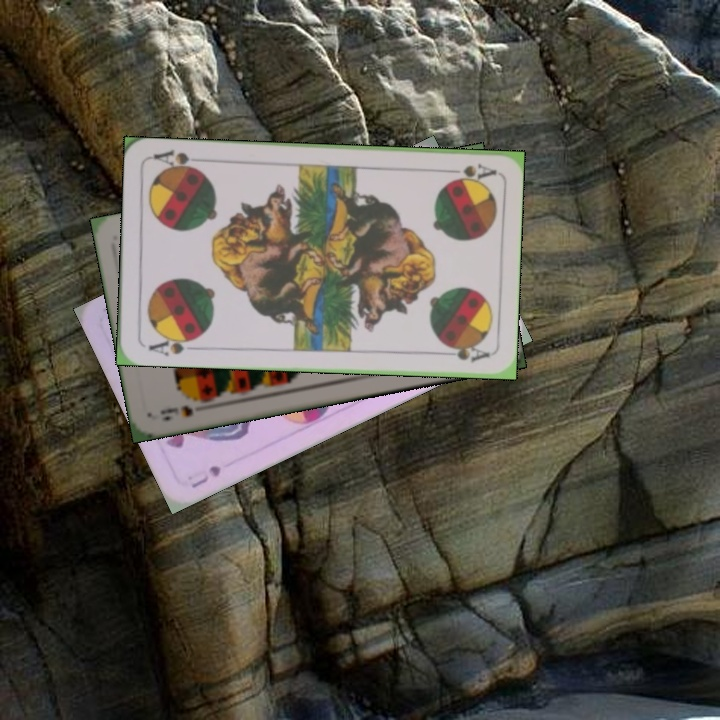S9: (155, 401, 196, 424)
SA: (144, 331, 201, 358), (438, 159, 497, 184)
SU: (187, 461, 224, 491)
